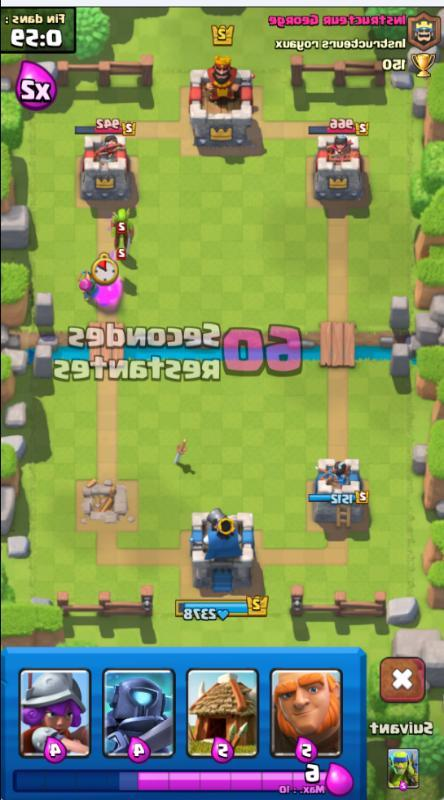enemy_spear_goblins: (109, 204, 137, 253)
